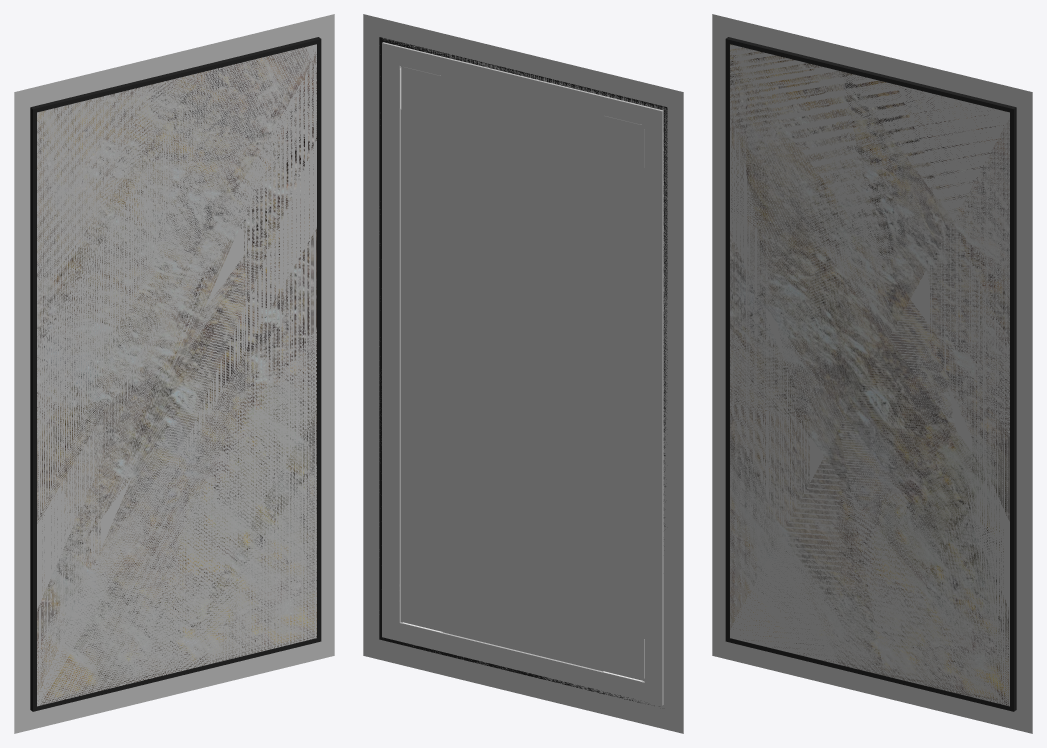
File: Rock_sheet_GOLDENBARK.dae
3 renders of one model, left to right at view 1: azimuth 30°, elevation 25°; view 2: azimuth 150°, elevation 25°; view 3: azimuth 330°, elevation 25°, orthographic.
Visible parts, largest first — view 1: group_13, image_0, group_6, group_4, group_5, group_7; view 2: image_0, group_1 (×2), group_4, group_5, group_6, group_7; view 3: group_13, image_0, group_4, group_6, group_5, group_7.
Boxes of the visible parts, x1,y1,x2,y2 form: group_13: (37,44,316,706); image_0: (14,14,334,733); group_6: (30,107,36,711); group_4: (317,39,321,640); group_5: (31,37,320,112); group_7: (33,638,320,711); image_0: (363,14,683,733); group_1 (×2): (382,42,663,705); group_4: (379,37,382,638); group_5: (380,37,666,109); group_6: (663,107,667,526); group_7: (379,637,659,706); group_13: (730,44,1009,706); image_0: (712,14,1032,733); group_4: (1010,107,1016,711); group_6: (725,39,729,640); group_5: (726,37,1015,112); group_7: (726,638,1013,711).
Size of the model in its own units: 53.57 by 1.14 by 102.
